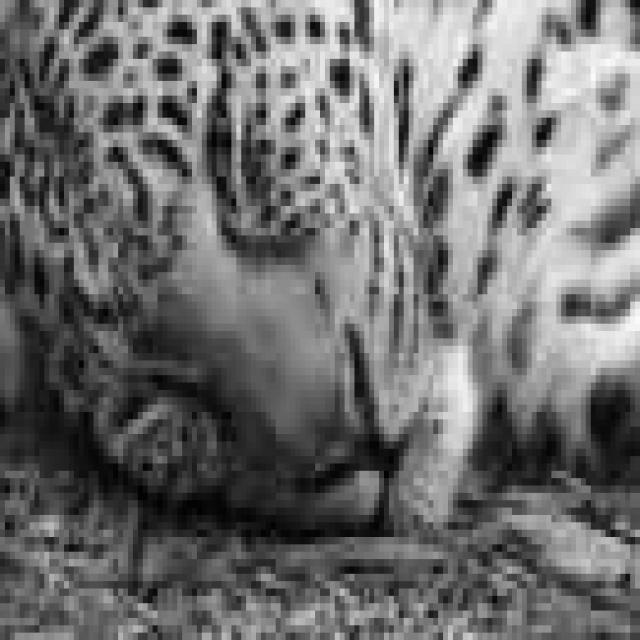Leopard: (0, 0, 635, 537)
